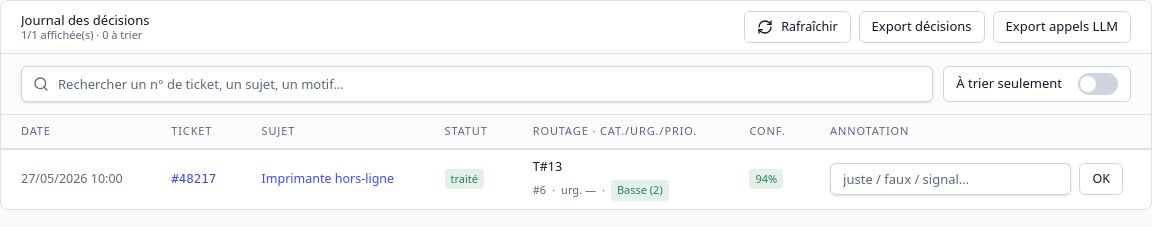
Journal des décisions › annote une décision (Api.annotate + confirmation annoncée)
Expected: the link "#48217" is shown, [171, 171, 216, 186]
Le champ est nommé par son ticket : « zone de texte » anonyme x500, c'était le défaut.
Type "juste" into the field named "Annotation du ticket #48217" at (951, 179), box [830, 163, 1072, 195]
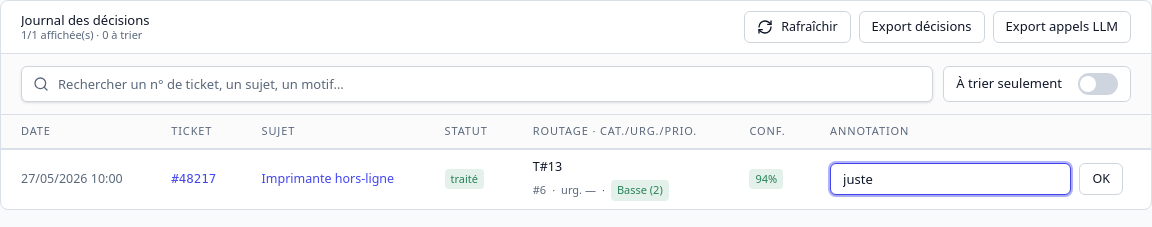
Click the button with aria-label "Enregistrer l'annotation du ticket #48217" at (1101, 179), box [1080, 163, 1123, 195]
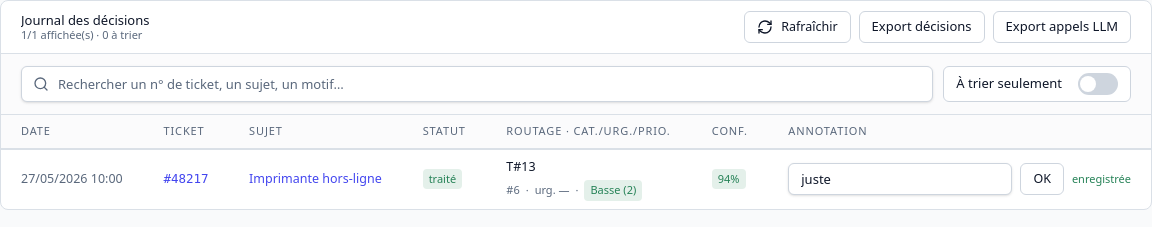
Now the message reads "enregistrée", box [1072, 171, 1131, 186]
